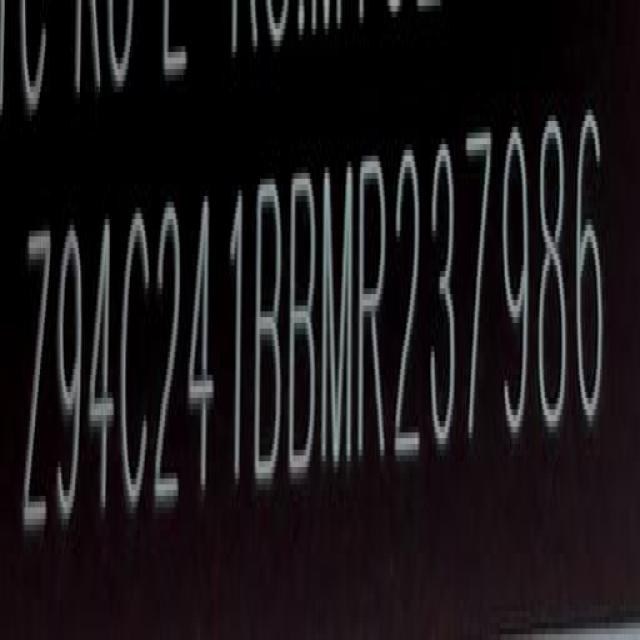1: (225, 183, 247, 504)
2: (156, 192, 187, 520), (395, 150, 426, 472)
3: (430, 141, 458, 462)
4: (190, 190, 219, 516), (90, 214, 118, 530)
6: (576, 107, 606, 440)
7: (462, 121, 493, 454)
8: (538, 110, 570, 440)
9: (503, 127, 533, 449), (56, 222, 85, 540)
B: (255, 175, 285, 494), (291, 164, 320, 490)
C: (119, 205, 154, 526)
M: (319, 157, 355, 483)
R: (358, 149, 389, 476)
Z: (20, 223, 51, 557)
